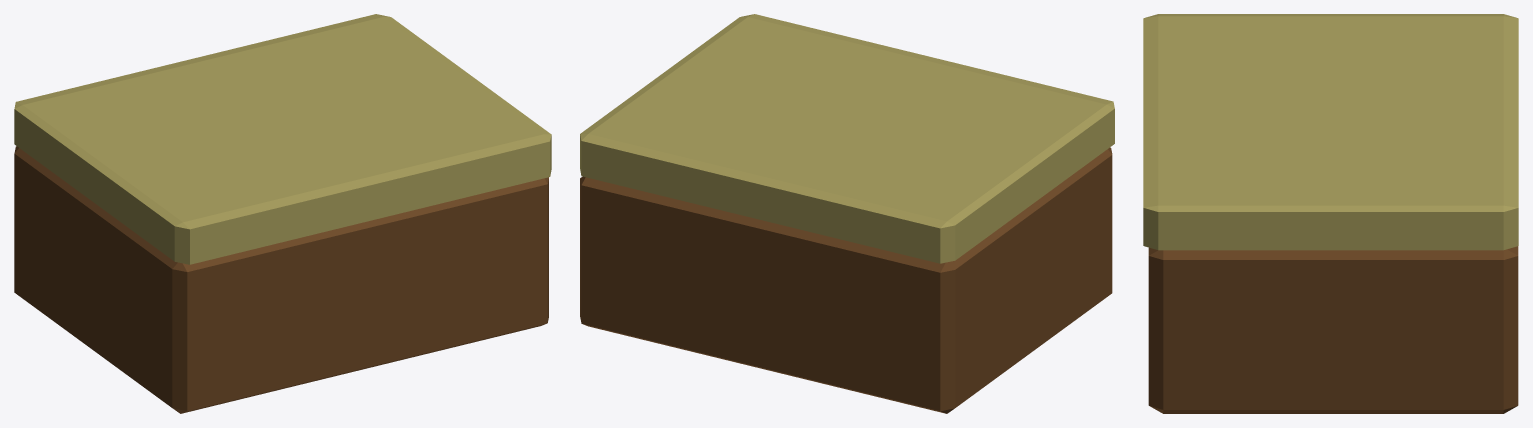
The model's file is lighttopbtmbtm.fbx.
3 renders of one model, left to right at view 1: azimuth 30°, elevation 25°; view 2: azimuth 150°, elevation 25°; view 3: azimuth 270°, elevation 25°, orthographic. The views are drawn at different scales.
Parts seen in each view (by area): view 1: pCube8; view 2: pCube8; view 3: pCube8.
Part boxes in pixels (x1=…): pCube8: x1=14, y1=14, x2=551, y2=413; pCube8: x1=580, y1=14, x2=1114, y2=413; pCube8: x1=1143, y1=14, x2=1518, y2=413.
Size of the model in its own units: 152 by 74.53 by 122.
